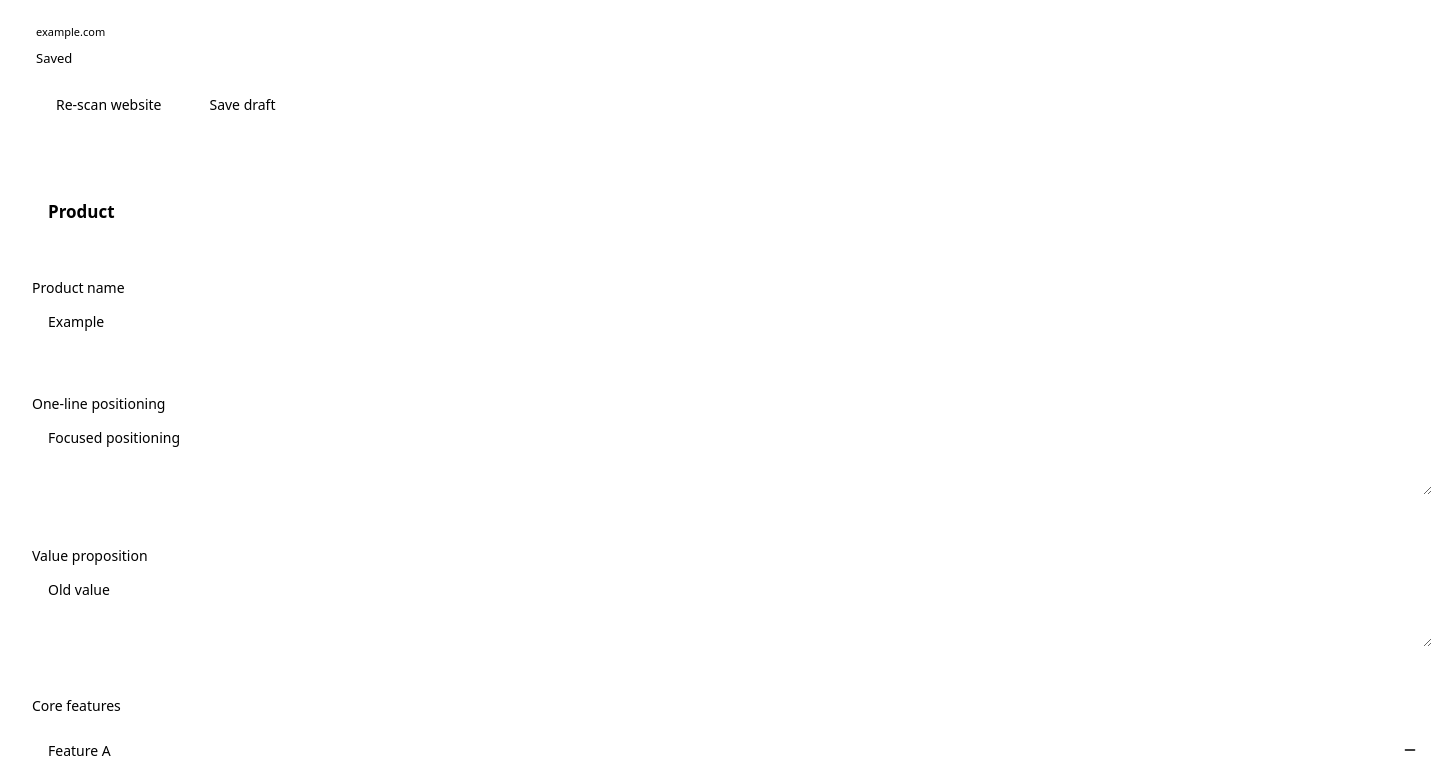
Test case: WebsiteProfileEditor › keeps the generic sentence when the failure has no named cause
Click the button "Re-scan website". click: (109, 104)
box: x1=36 y1=84 x2=182 y2=124
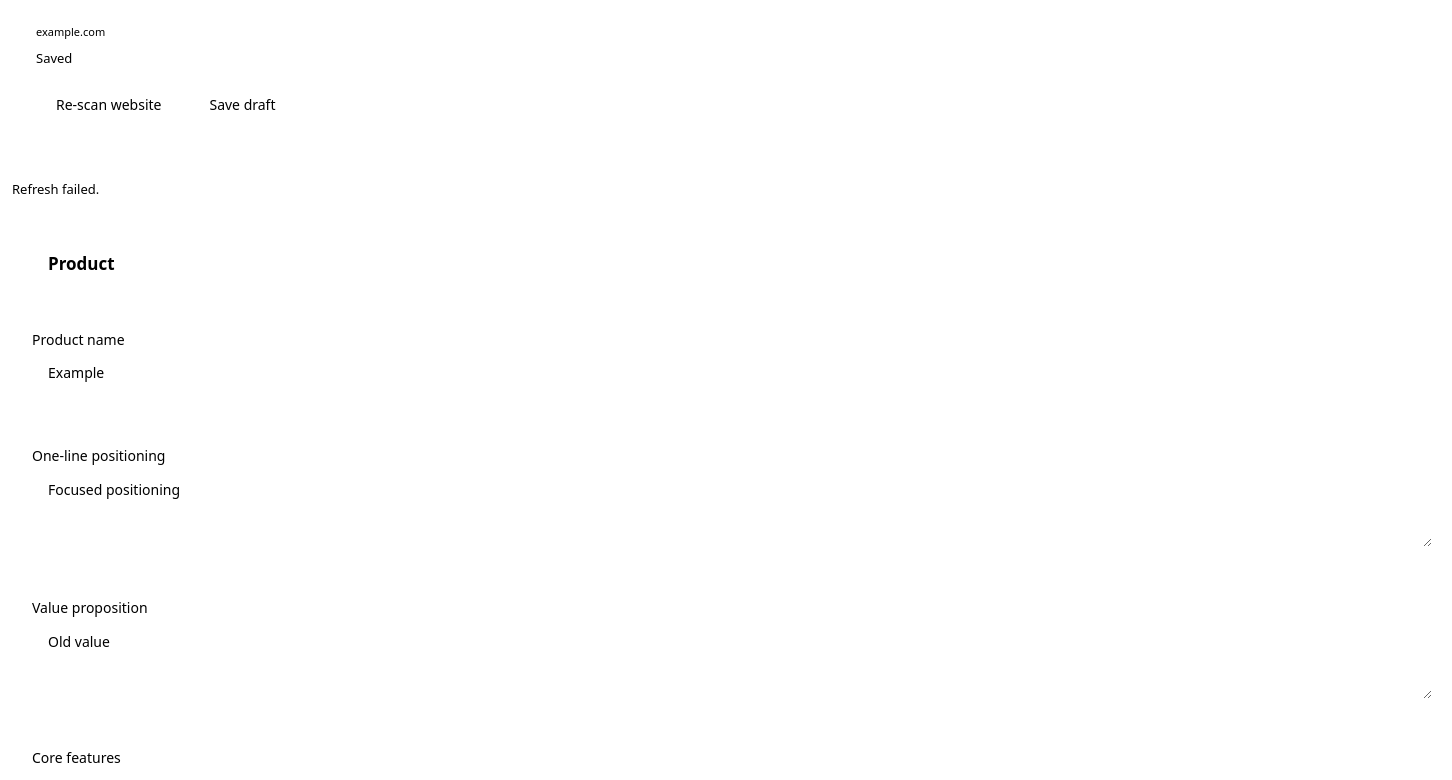
Check: the text "Refresh failed." is shown, box x1=12 y1=180 x2=99 y2=198
